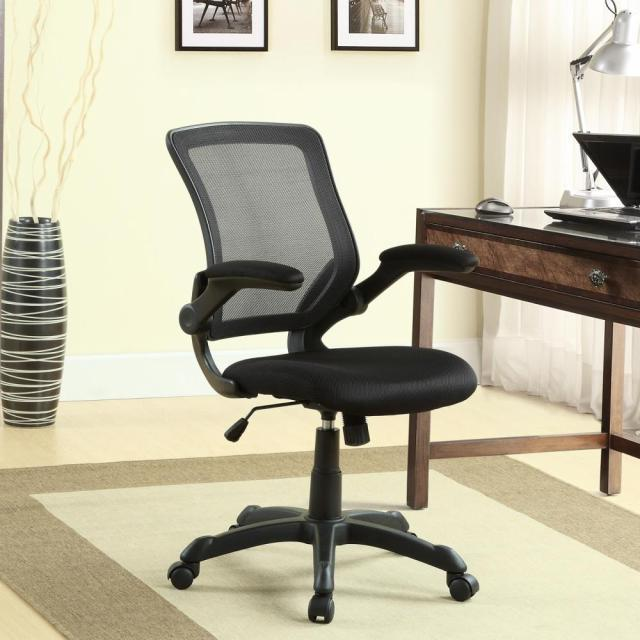chair: (133, 97, 489, 629)
table: (404, 200, 640, 559)
